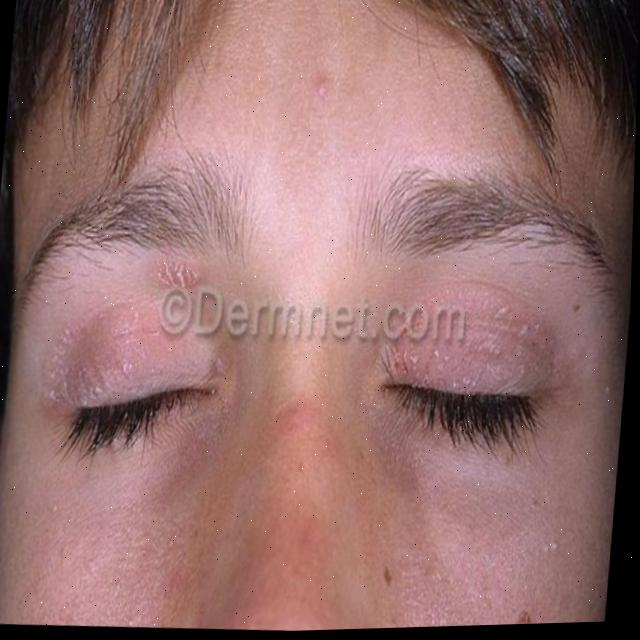Eczema: (358, 296, 550, 402), (62, 306, 215, 396)
